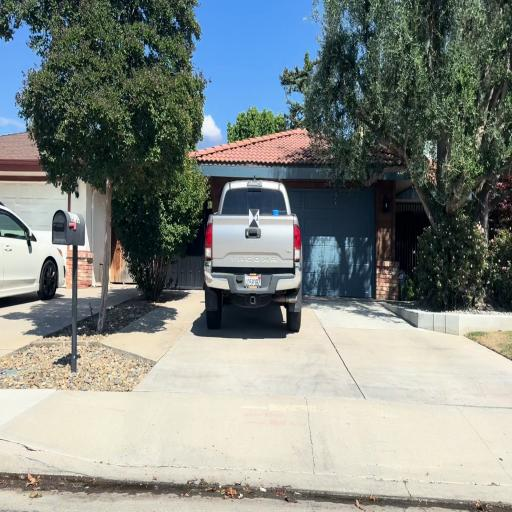target1: (249, 209, 259, 227)
